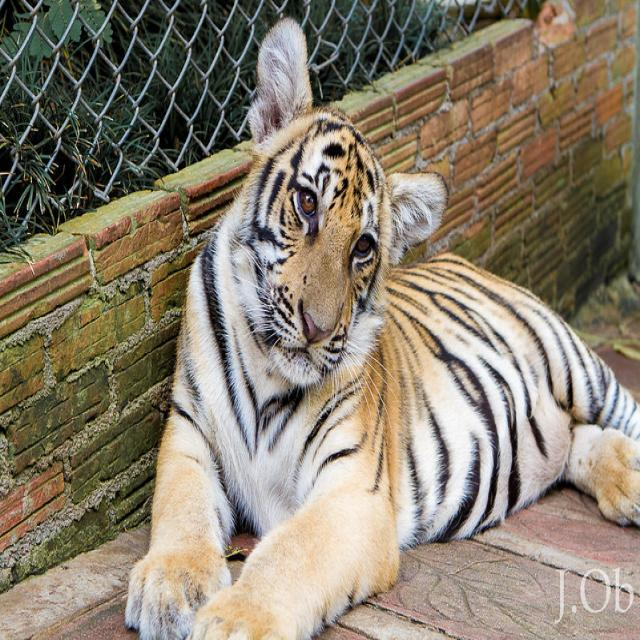Tiger: (120, 12, 543, 639)
